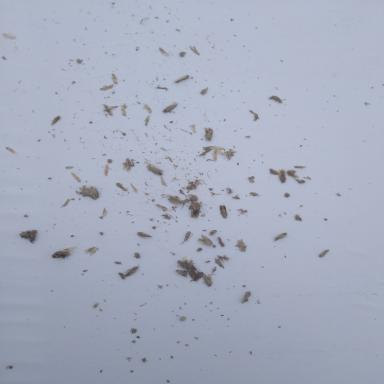pbw: (146, 163, 163, 176), (78, 184, 92, 198), (162, 102, 178, 114), (198, 234, 214, 246), (190, 202, 201, 219), (218, 203, 228, 219), (168, 194, 184, 204), (125, 266, 139, 277), (204, 127, 214, 142), (213, 257, 225, 269), (88, 186, 99, 199), (202, 274, 213, 286), (241, 291, 251, 304), (174, 75, 190, 83), (53, 248, 71, 255), (192, 272, 204, 282), (279, 168, 287, 183), (175, 269, 189, 277), (275, 232, 287, 241), (182, 231, 191, 243), (102, 106, 119, 112), (136, 232, 152, 238), (143, 103, 152, 113), (218, 236, 225, 248), (52, 254, 68, 259), (320, 250, 329, 258)
